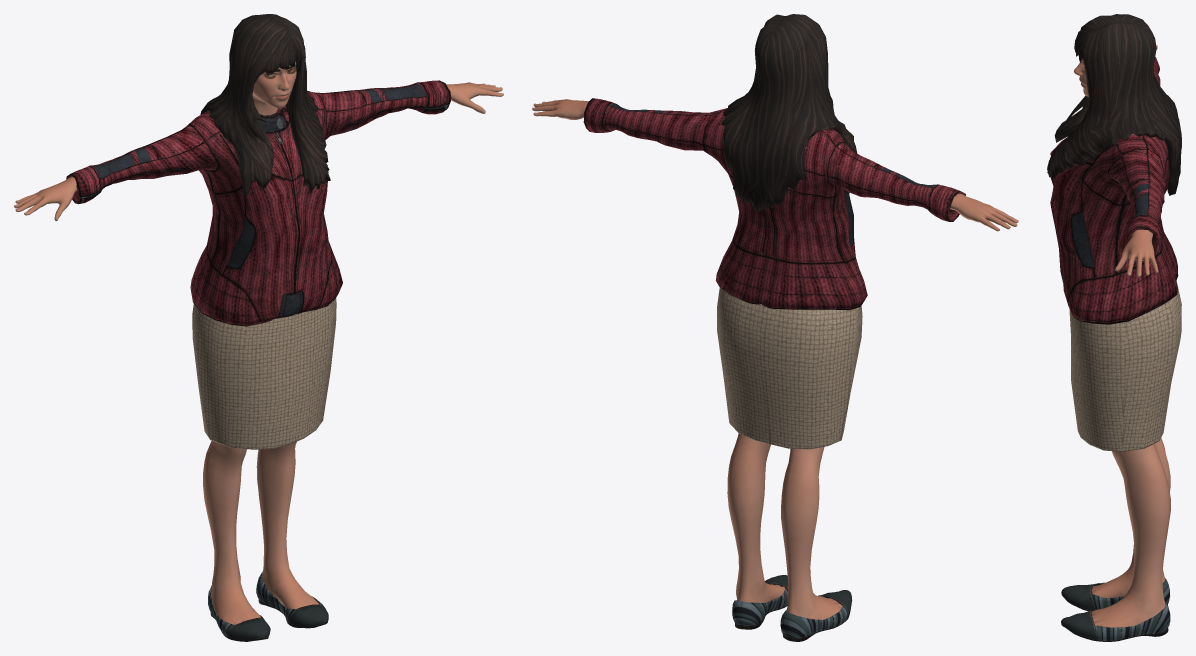
File: female3.obj
3 renders of one model, left to right at view 1: azimuth 30°, elevation 25°; view 2: azimuth 150°, elevation 25°; view 3: azimuth 270°, elevation 25°, orthographic.
Parts seen in each view (by area): view 1: Tops, Bottoms, Body, Hair, Shoes; view 2: Tops, Bottoms, Hair, Body, Shoes; view 3: Tops, Bottoms, Hair, Body, Shoes.
Boxes of the visible parts, bbox=[...] form: Tops: bbox=[66, 80, 450, 326]; Bottoms: bbox=[192, 298, 336, 449]; Body: bbox=[14, 61, 503, 624]; Hair: bbox=[200, 14, 330, 198]; Shoes: bbox=[208, 571, 328, 641]; Tops: bbox=[583, 98, 965, 310]; Bottoms: bbox=[717, 287, 862, 449]; Hair: bbox=[721, 14, 857, 212]; Body: bbox=[532, 99, 1018, 621]; Shoes: bbox=[732, 575, 852, 641]; Tops: bbox=[1050, 57, 1178, 324]; Bottoms: bbox=[1069, 281, 1181, 451]; Hair: bbox=[1047, 14, 1181, 195]; Body: bbox=[1074, 45, 1170, 633]; Shoes: bbox=[1061, 578, 1170, 641].
Bounding box in the file's own units: 150 × 177 × 35.92.
Materials: 5 (5 with a texture image).
